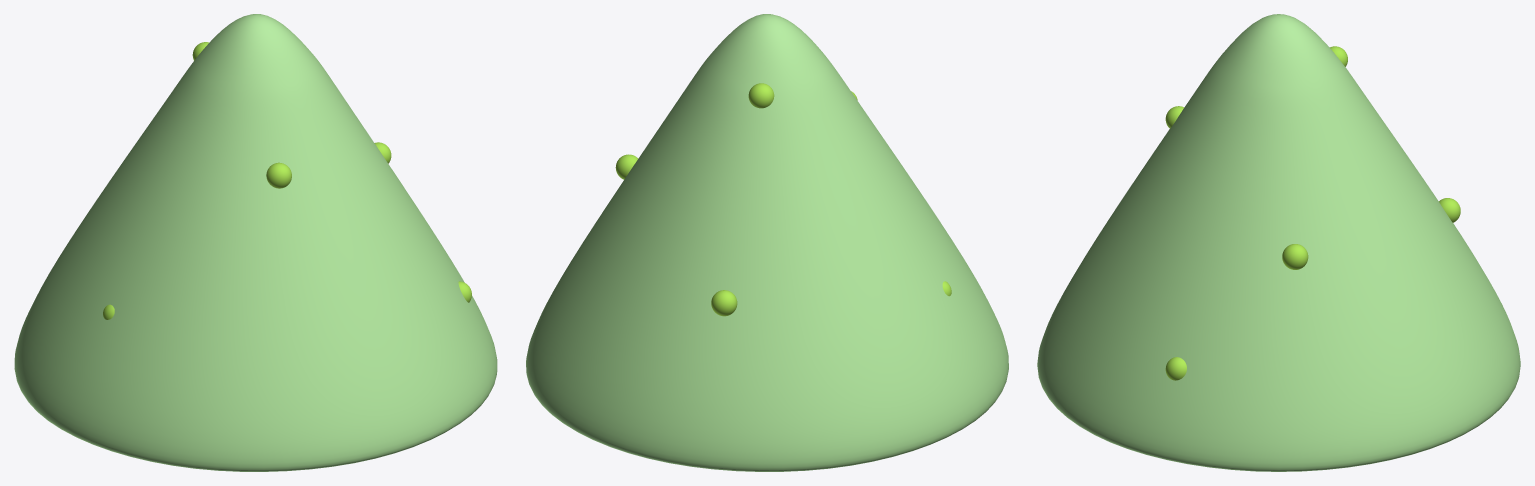
File: MiningSpot2.fbx
3 views of the same model, side by side, from view 1: azimuth 30°, elevation 25°; view 2: azimuth 150°, elevation 25°; view 3: azimuth 270°, elevation 25° (orthographic).
Visible parts, largest first — view 1: Cube; view 2: Cube; view 3: Cube.
Part boxes in pixels (left/top/right/bottom): Cube: left=14, top=14, right=497, bottom=471; Cube: left=526, top=14, right=1008, bottom=471; Cube: left=1037, top=14, right=1520, bottom=471.
Bounding box in the file's own units: 212 × 172 × 212.
